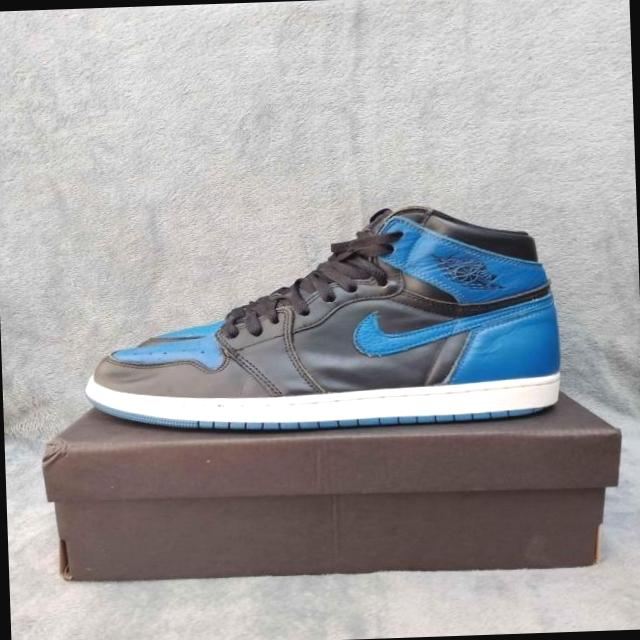nike_fake_jordan: (76, 196, 566, 439)
